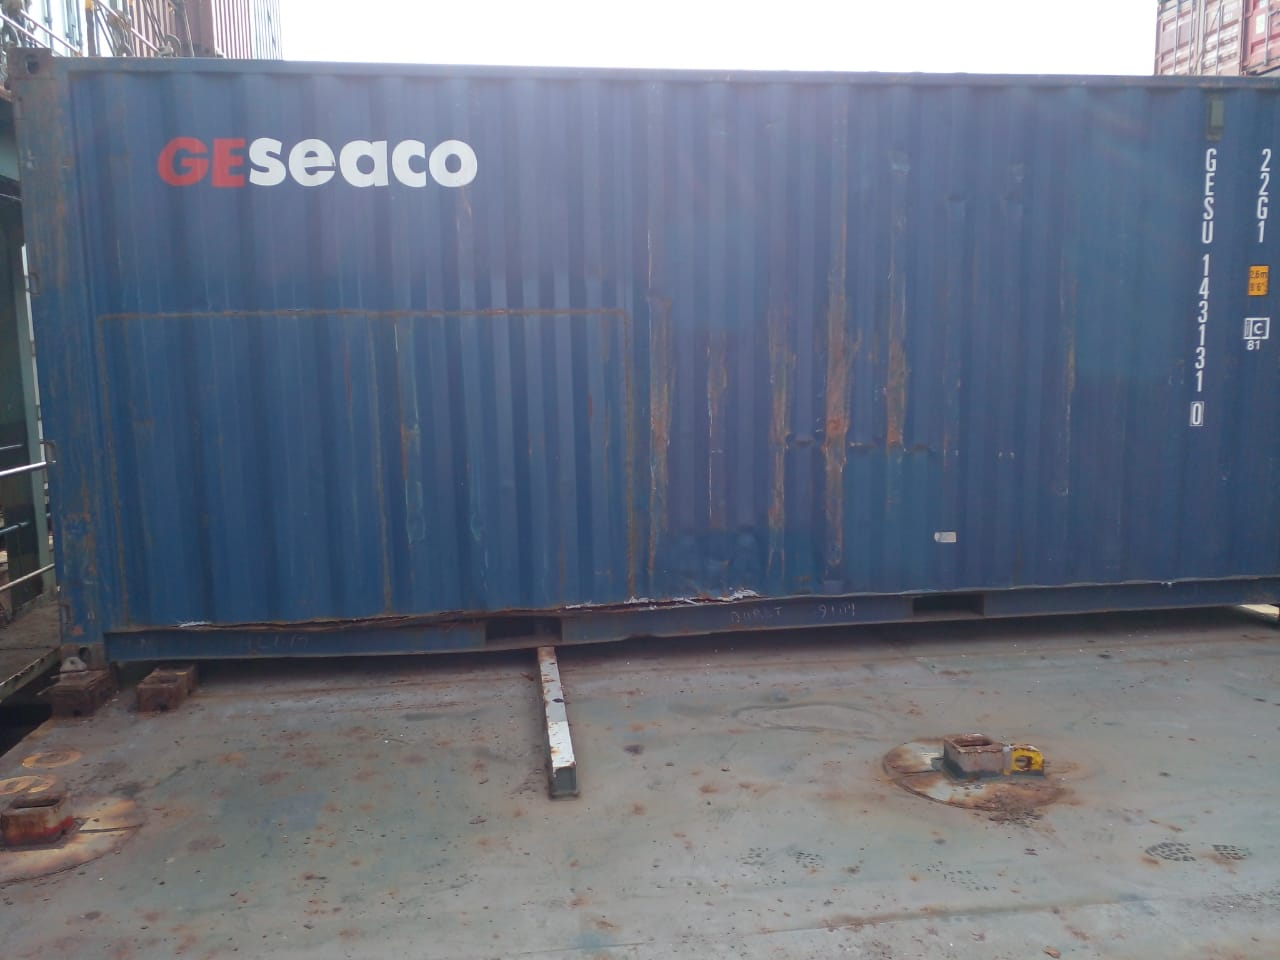dented: (730, 322, 948, 532), (170, 276, 647, 349)
